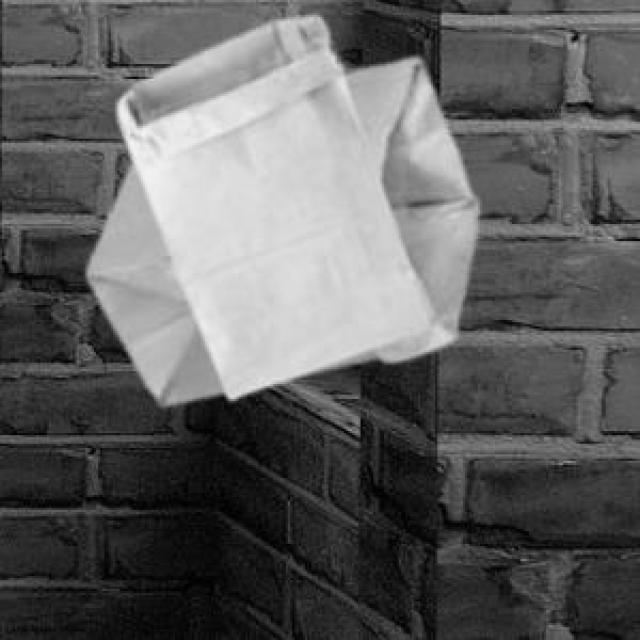paper: (83, 53, 474, 401), (113, 13, 422, 395)
